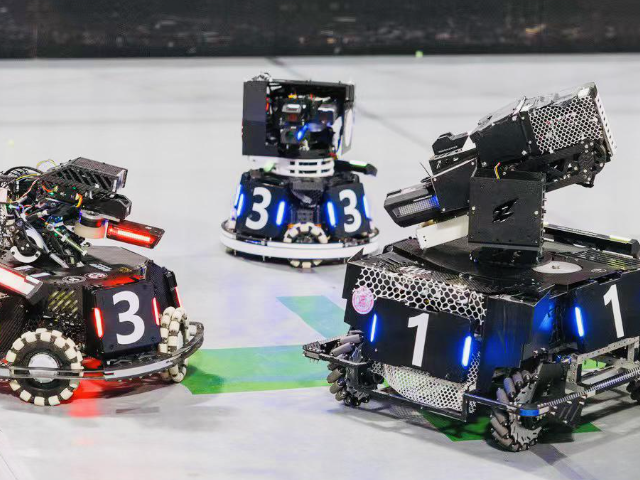rm: (300, 80, 639, 453), (0, 158, 206, 408), (218, 75, 384, 246)
